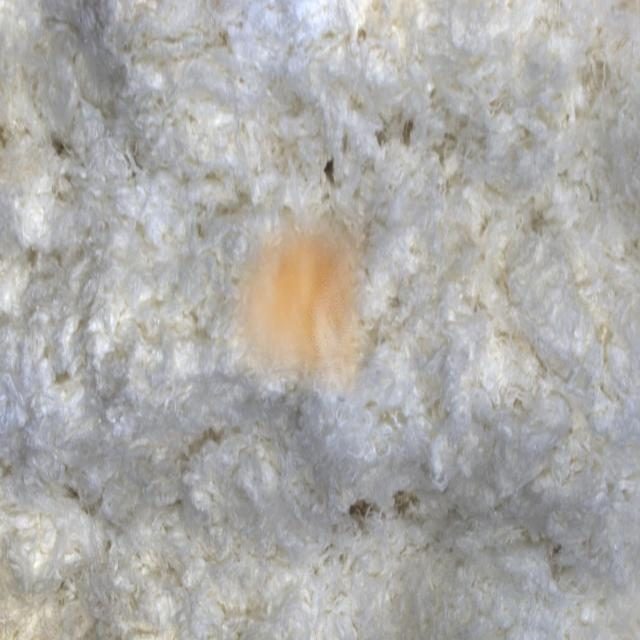dust: (225, 205, 378, 397)
